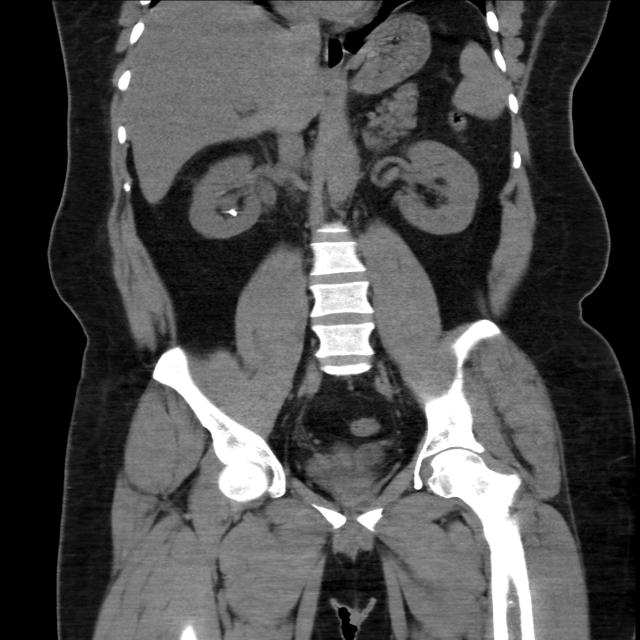kidneystone: (221, 209, 238, 216)
